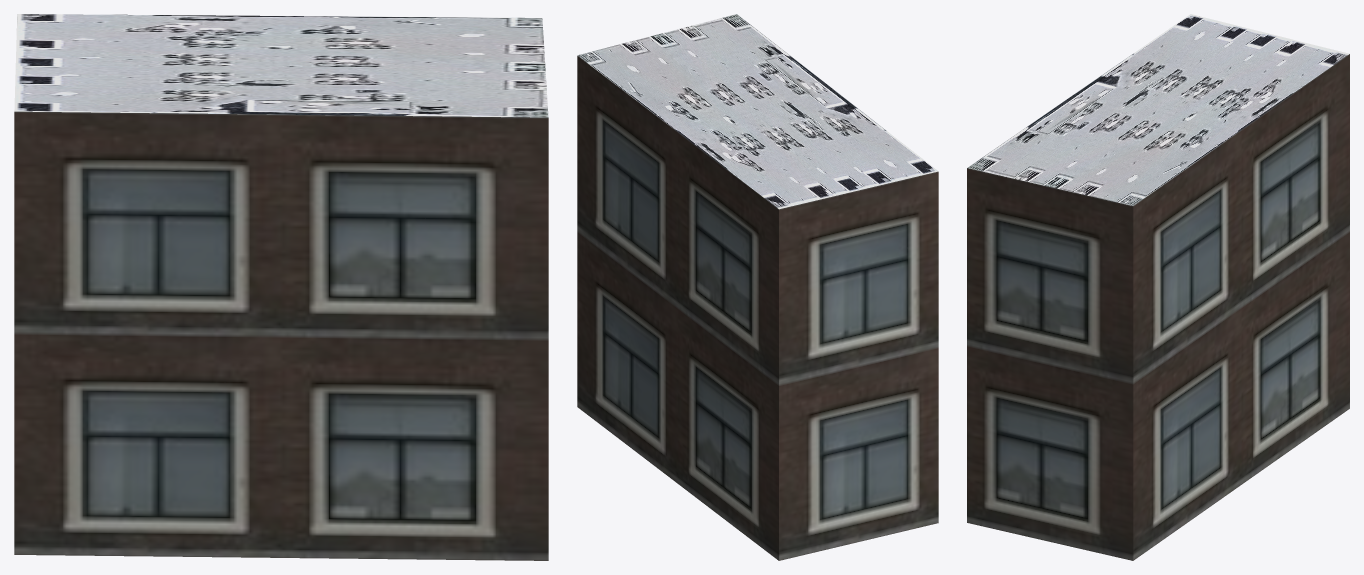
File: ResTex__2073.fbx
The picture shows the model from 3 angles, left to right: view 1: azimuth 30°, elevation 25°; view 2: azimuth 150°, elevation 25°; view 3: azimuth 270°, elevation 25°; orthographic projection. The views are drawn at different scales.
Visible parts, largest first — view 1: CityEngineMaterial_16_m, CityEngineMaterial_15_m; view 2: CityEngineMaterial_16_m, CityEngineMaterial_15_m; view 3: CityEngineMaterial_16_m, CityEngineMaterial_15_m.
Part boxes in pixels (x1,y1,x2,y2): CityEngineMaterial_16_m: (14,111,548,560); CityEngineMaterial_15_m: (14,14,548,117); CityEngineMaterial_16_m: (577,56,938,560); CityEngineMaterial_15_m: (577,14,938,209); CityEngineMaterial_16_m: (967,54,1349,560); CityEngineMaterial_15_m: (967,14,1349,205).
Bounding box in the file's own units: 6.97 × 6 × 5.87.
Materials: 2 (2 with a texture image).
